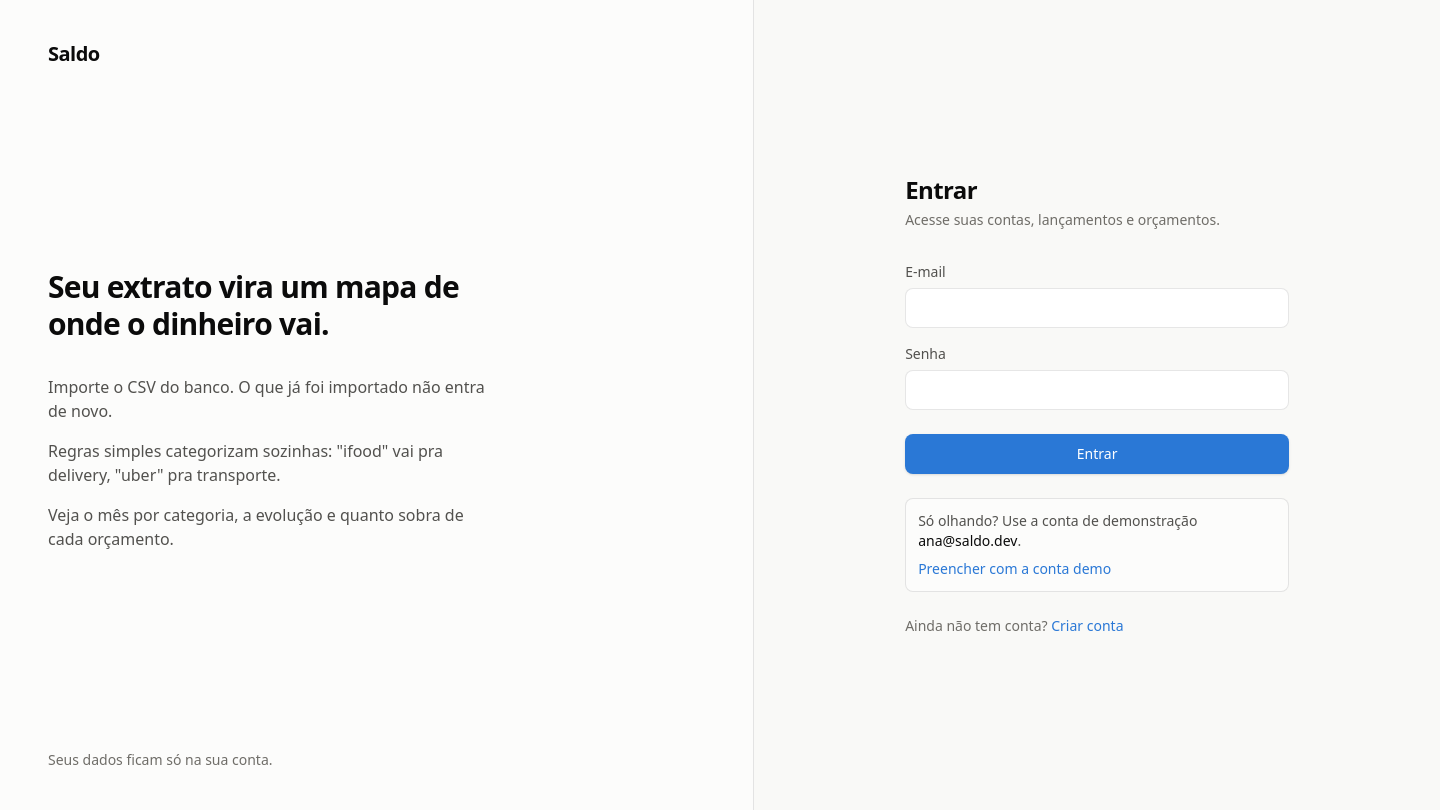
Test case: login › fills the demo account, logs in and opens the dashboard
The image size is (1440, 810).
Click the button "Preencher com a conta demo": x=1015, y=569 [918, 559, 1111, 579]
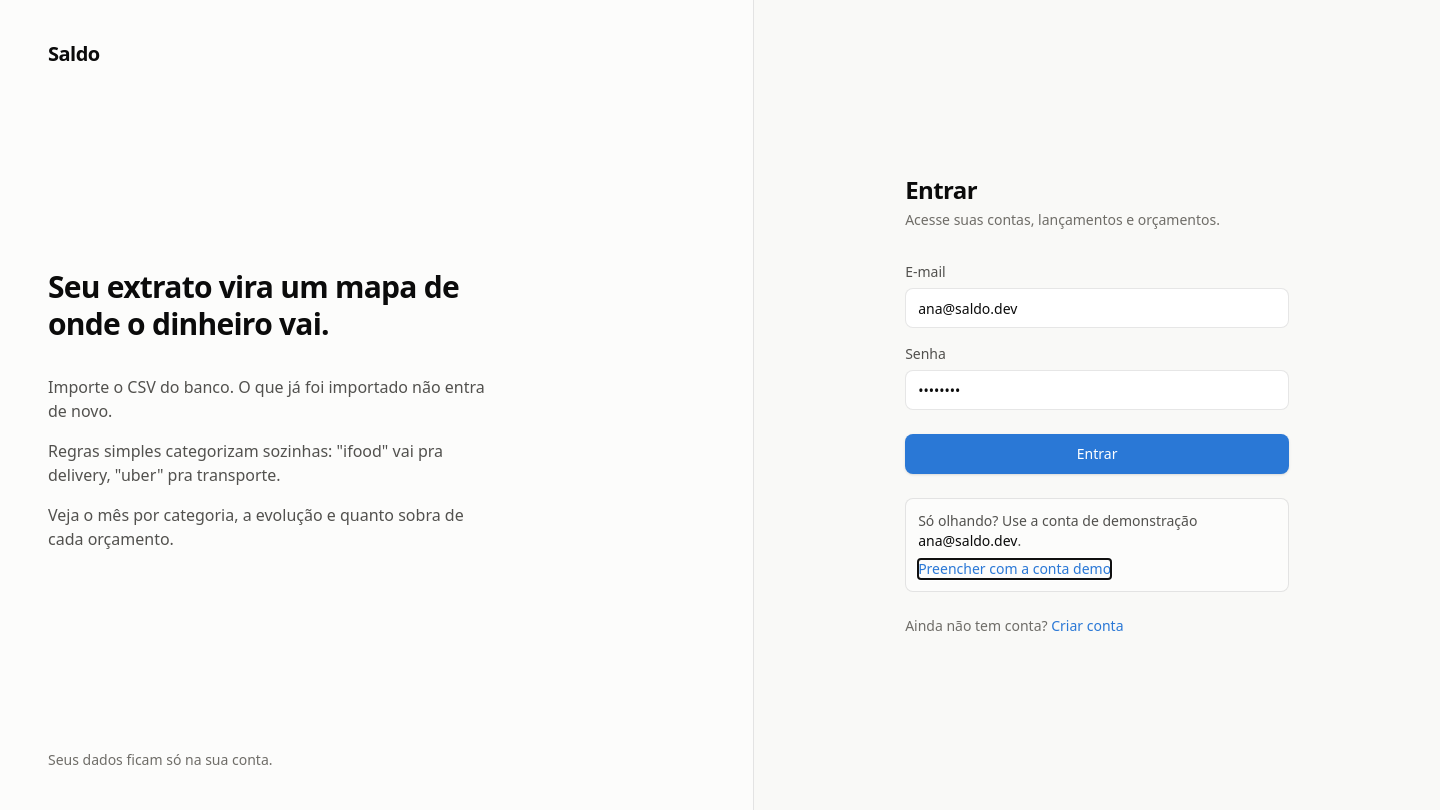
Click the button "Entrar": x=1097, y=454 [905, 434, 1289, 474]
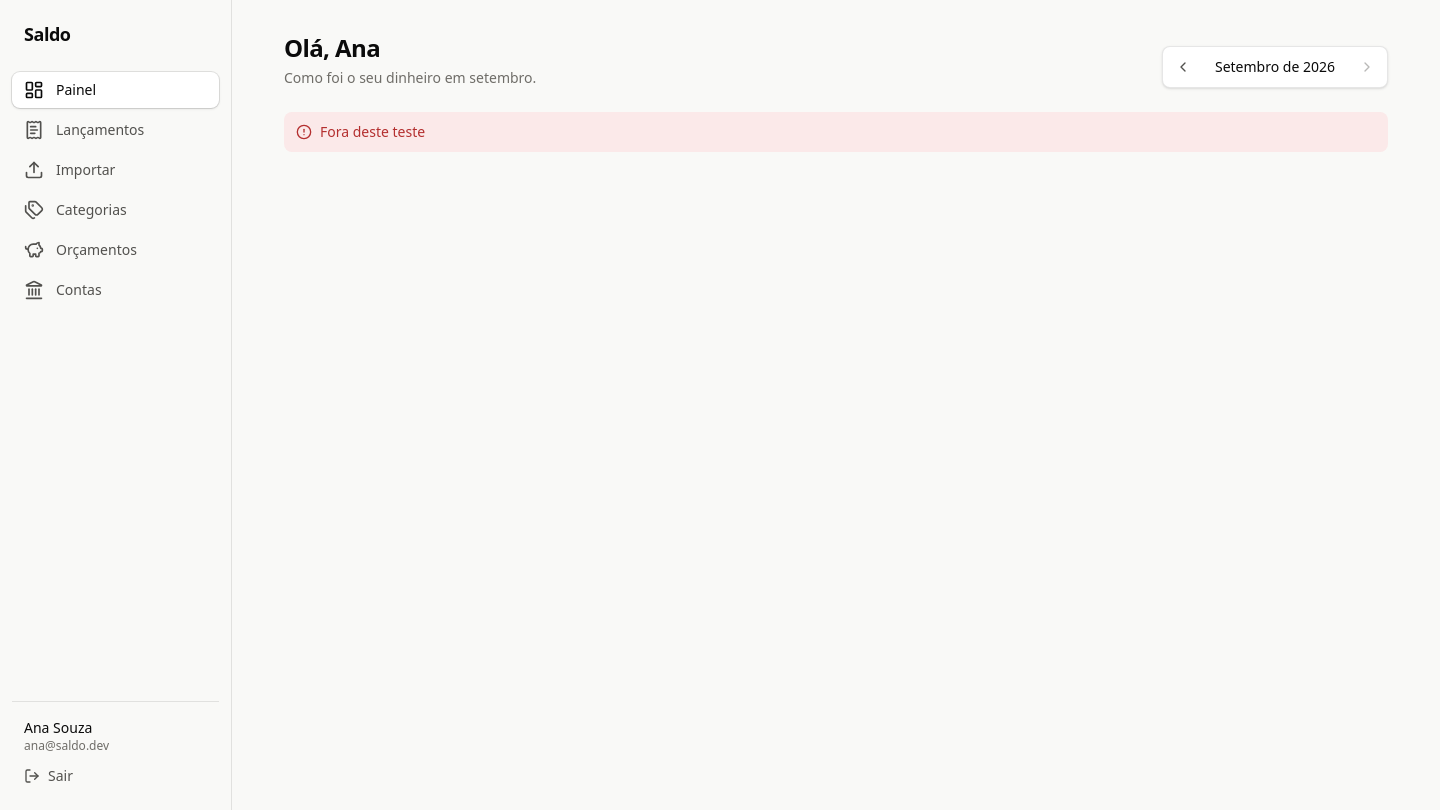
Now the heading "Olá, Ana" is shown, box [284, 31, 380, 64]
